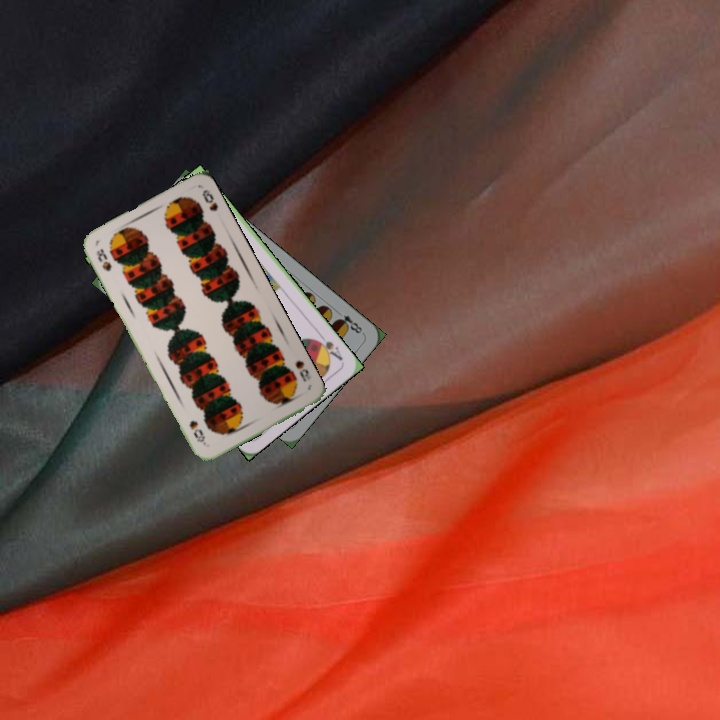E8: (333, 311, 366, 337)
S8: (92, 244, 114, 274), (291, 356, 312, 385)
SA: (311, 330, 346, 364)
